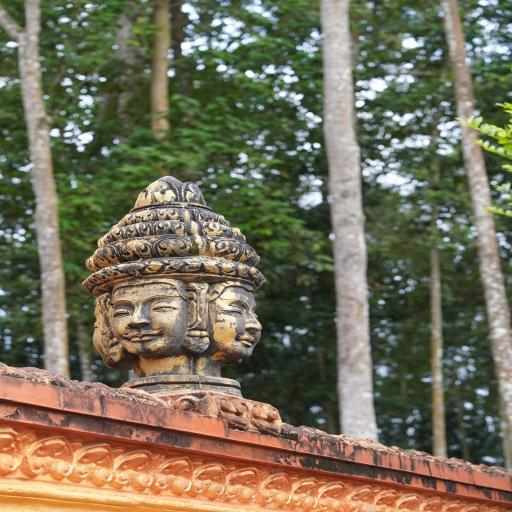la: (26, 431, 75, 484), (74, 438, 118, 487), (116, 445, 155, 493), (154, 450, 192, 498), (191, 455, 227, 501), (258, 466, 294, 508), (227, 462, 260, 504), (0, 426, 26, 479), (291, 474, 322, 510), (318, 476, 347, 511), (346, 481, 375, 512), (375, 485, 397, 512), (397, 490, 420, 512), (421, 491, 443, 512), (444, 496, 462, 512), (464, 500, 481, 512)
than: (56, 162, 322, 420), (102, 279, 194, 360), (204, 278, 268, 364), (88, 288, 123, 368)
